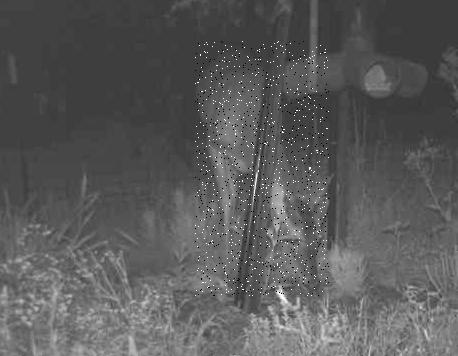Deer: (195, 42, 329, 297)
